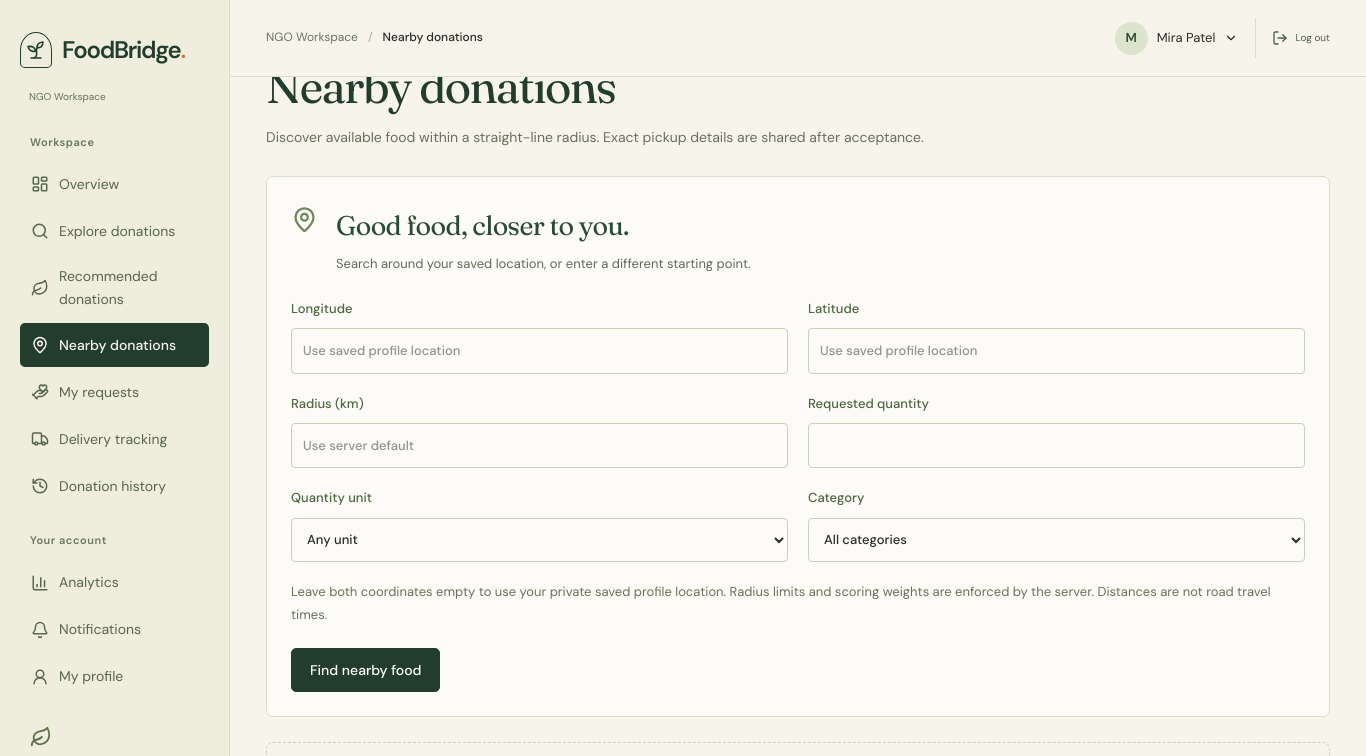
Test: Phase 4 NGO workspace › selects a nearby donation using a keyboard-accessible written alternative
The width and height of the screenshot is (1366, 756).
(page scrolled)
Submit the form named "Donation discovery", box [266,176,1330,717]
(page scrolled)
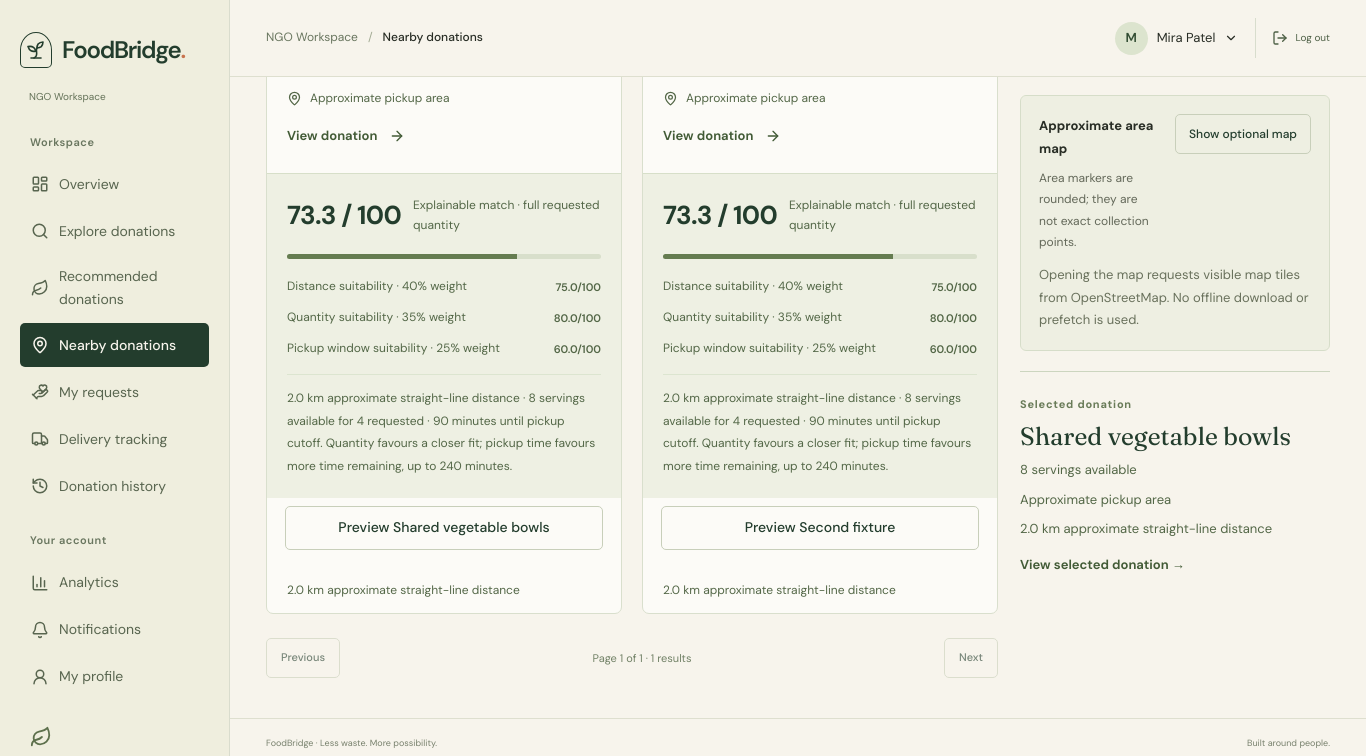
Click the button "Preview Second fixture" at (820, 528), box [661,506,979,550]
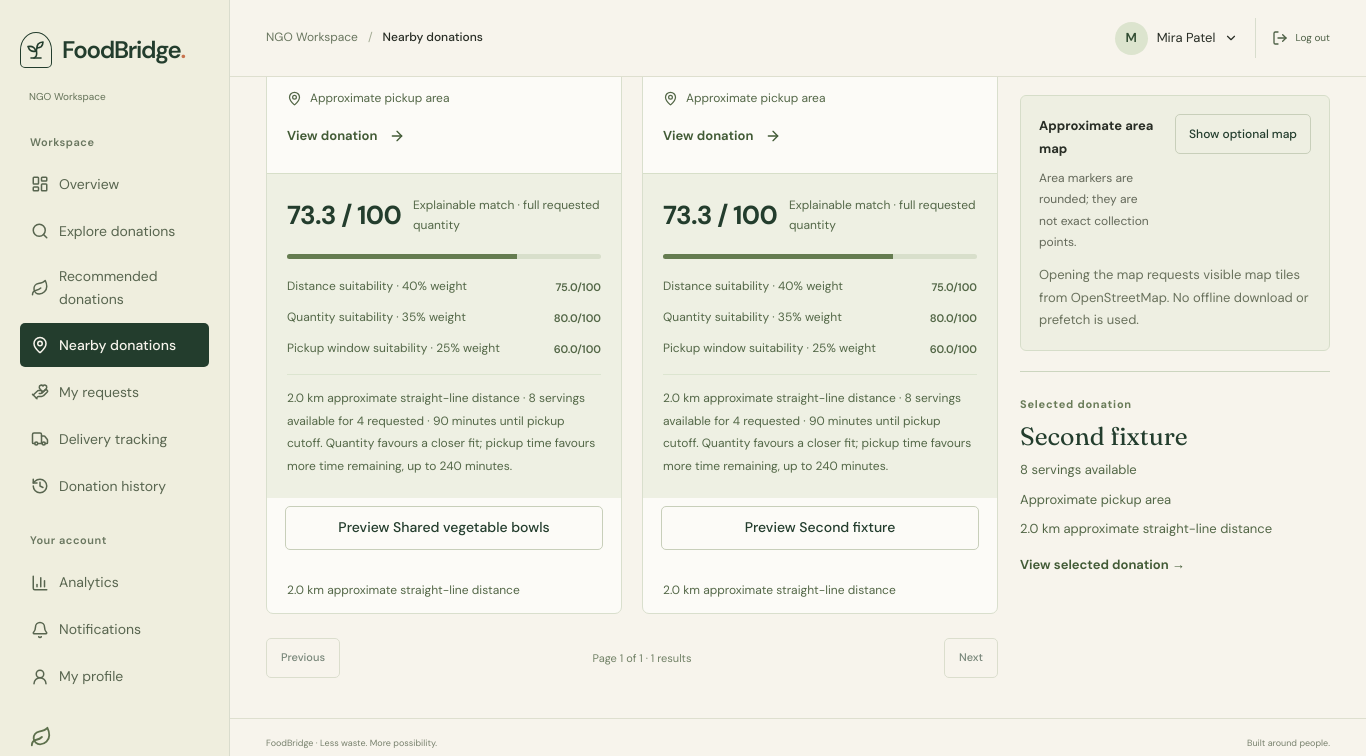
Expected: the element named "Selected donation preview" shows "Second fixture", [1020,421,1188,451]
